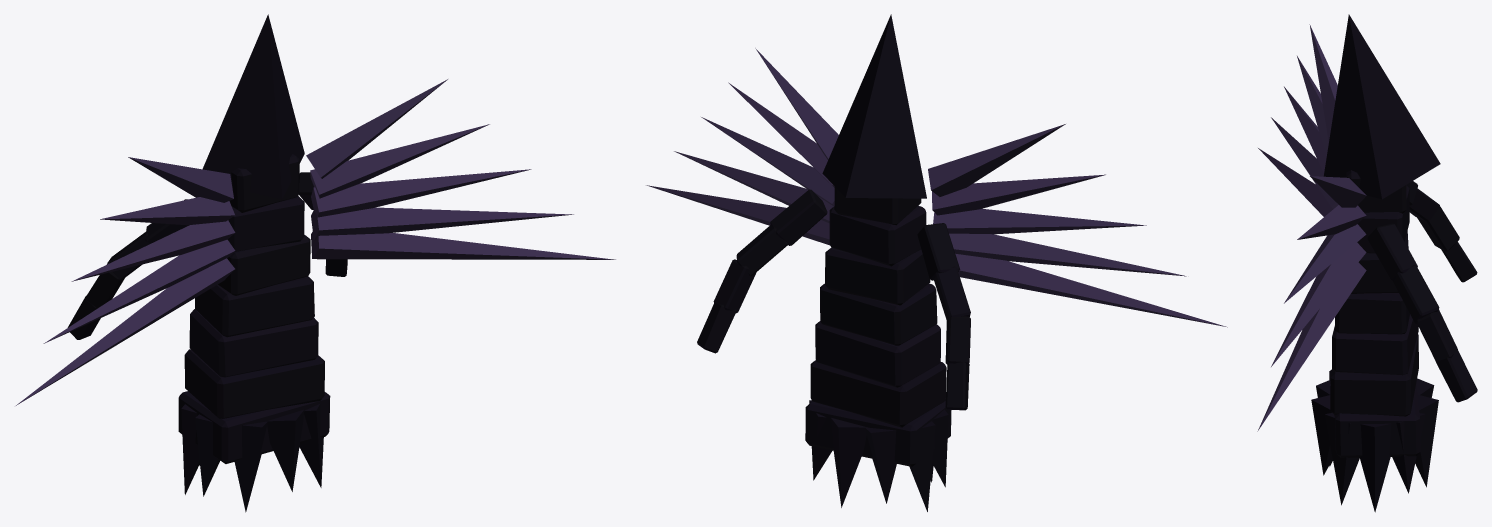
The model's file is inc_umbral_guardiao.fbx.
3 renders of one model, left to right at view 1: azimuth 30°, elevation 25°; view 2: azimuth 150°, elevation 25°; view 3: azimuth 270°, elevation 25°, orthographic. The views are drawn at different scales.
Visible parts, largest first — view 1: inc_umbral_guardiao; view 2: inc_umbral_guardiao; view 3: inc_umbral_guardiao.
Part boxes in pixels (left/top/right/bottom): inc_umbral_guardiao: left=16, top=14, right=615, bottom=512; inc_umbral_guardiao: left=646, top=14, right=1227, bottom=511; inc_umbral_guardiao: left=1257, top=14, right=1477, bottom=512.
Size of the model in its own units: 20.6 by 15.8 by 6.74.
